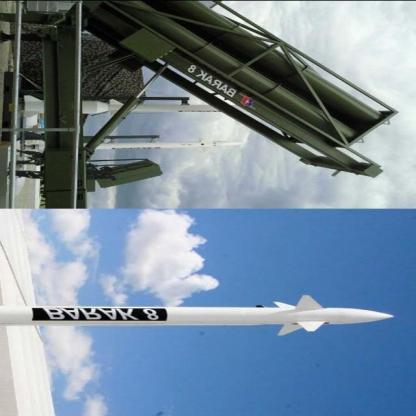MIL_TBM: (3, 294, 395, 335)
